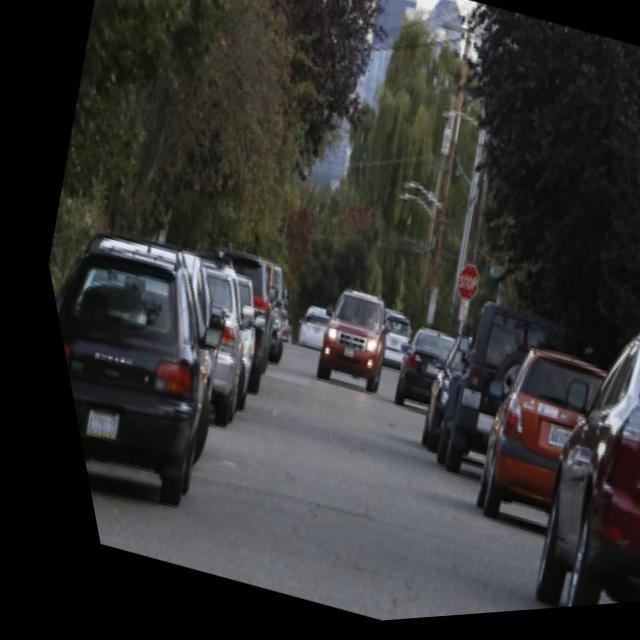license_plate: (60, 400, 114, 447)
